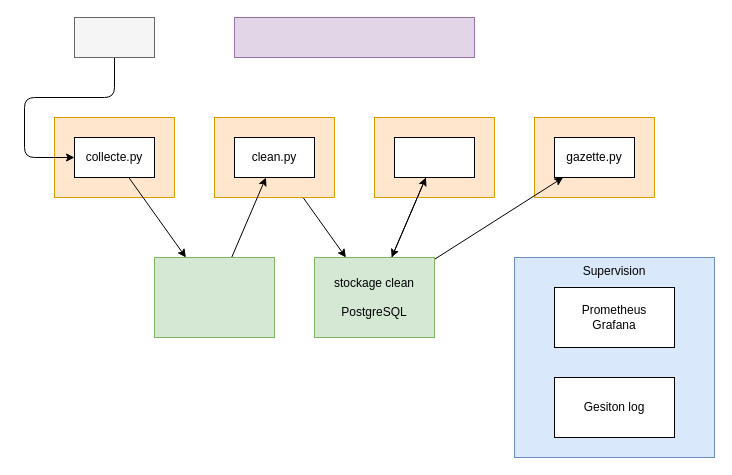
This 732x475 diagram has some shape labels left out. Each missing label, with the centre of its shape:
"clustering.py" belongs at point (434, 157).
"Flux RSS" belongs at point (114, 37).
"Orchestration : Kaestra" belongs at point (354, 37).
"stockage brut API S3" belongs at point (214, 297).
